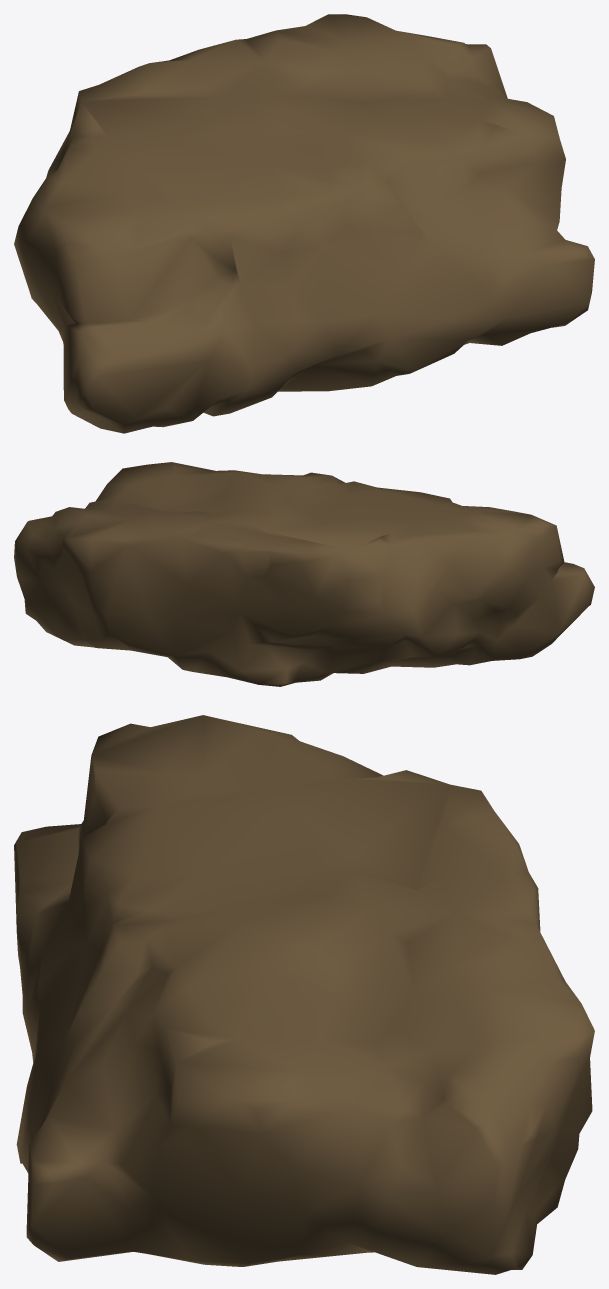
File: Rock_Cliff_01.fbx
3 views of the same model, one above another, from view 1: azimuth 30°, elevation 25°; view 2: azimuth 150°, elevation 25°; view 3: azimuth 270°, elevation 25° (orthographic). The views are drawn at different scales.
Visible parts, largest first — view 1: Rock_Cliff_01_low_LOD0; view 2: Rock_Cliff_01_low_LOD0; view 3: Rock_Cliff_01_low_LOD0.
Part boxes in pixels (bbox=[...]): Rock_Cliff_01_low_LOD0: bbox=[14, 14, 594, 433]; Rock_Cliff_01_low_LOD0: bbox=[14, 462, 594, 686]; Rock_Cliff_01_low_LOD0: bbox=[14, 715, 594, 1274].
Size of what is drawn, in the model's own units: 800 by 277 by 514.
